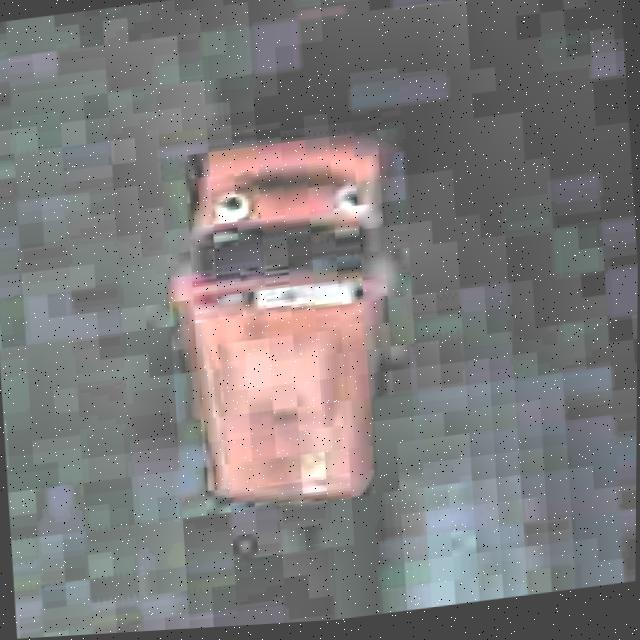bus: (137, 107, 433, 544)
